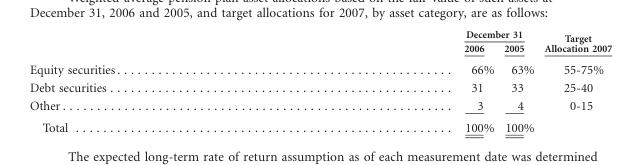table: (28, 28, 611, 133)
table column: (28, 28, 291, 133), (291, 28, 498, 133), (538, 28, 611, 133), (498, 28, 538, 133)
table column header: (28, 28, 611, 58)
table row: (28, 58, 611, 78), (28, 96, 611, 116), (28, 78, 611, 96), (28, 41, 611, 58), (28, 116, 611, 133), (28, 28, 611, 41)
table spanning cell: (291, 28, 538, 41), (538, 28, 611, 58)
